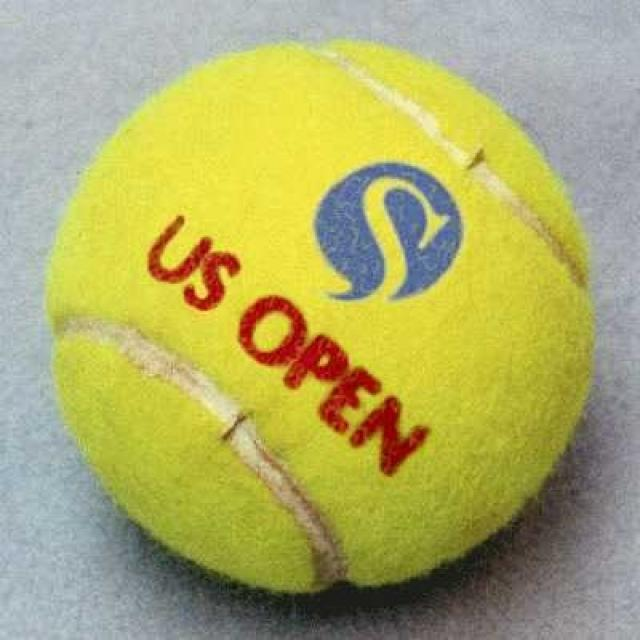Tennis_Ball: (46, 44, 606, 596)
